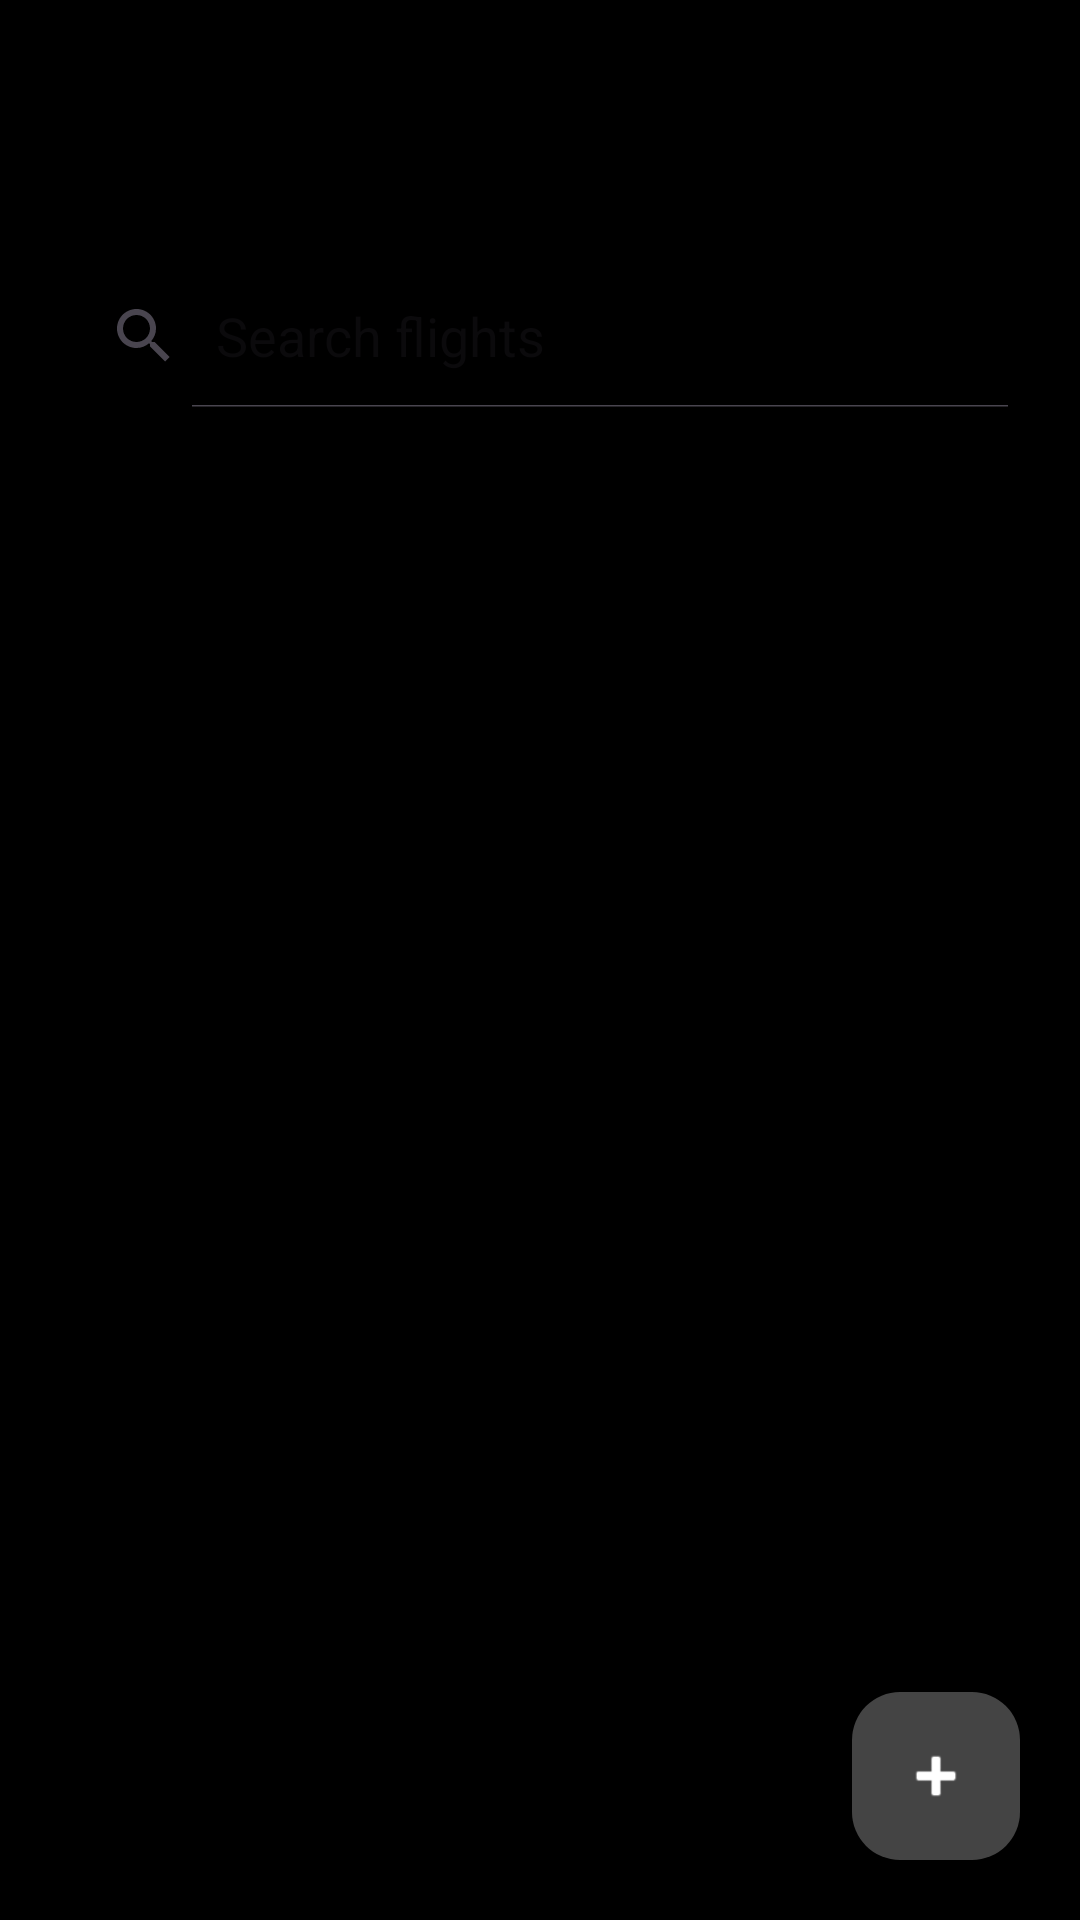

Locate icon controls on the screen. Image size 1080 × 1920, boxes as (x1, y1, x2, y2).
Add flight: (852, 1692, 1020, 1860)
